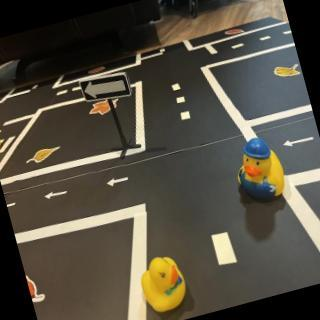duck_regular: (134, 247, 197, 320)
duck_specialty: (225, 132, 294, 210), (1, 116, 6, 154)
road_crosswalk: (1, 130, 23, 158)
road_oneway: (282, 132, 318, 152), (104, 172, 133, 192), (43, 185, 72, 204)
sign_oneway_left: (79, 67, 135, 109)
